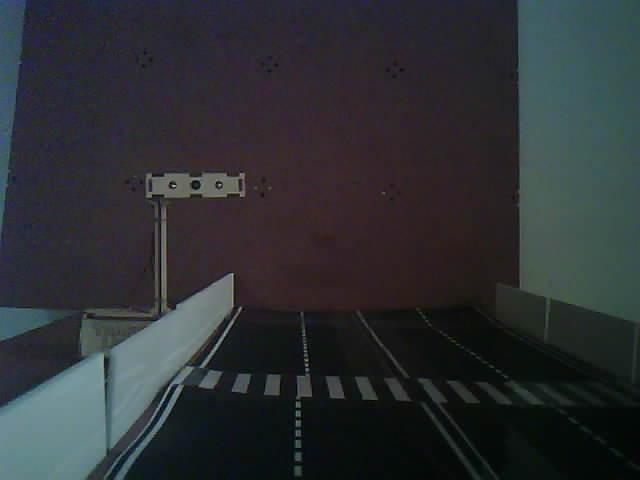crosswalk: (144, 346, 640, 457)
no: (122, 153, 276, 327)
